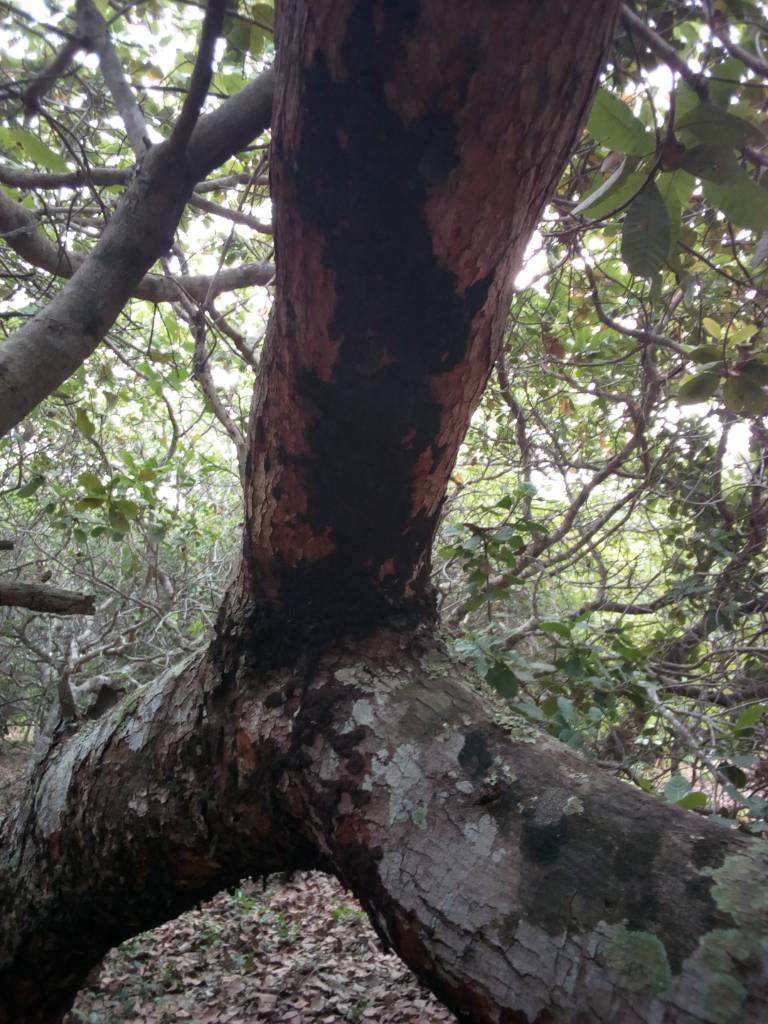Termites: (277, 94, 466, 627), (40, 700, 360, 883)
